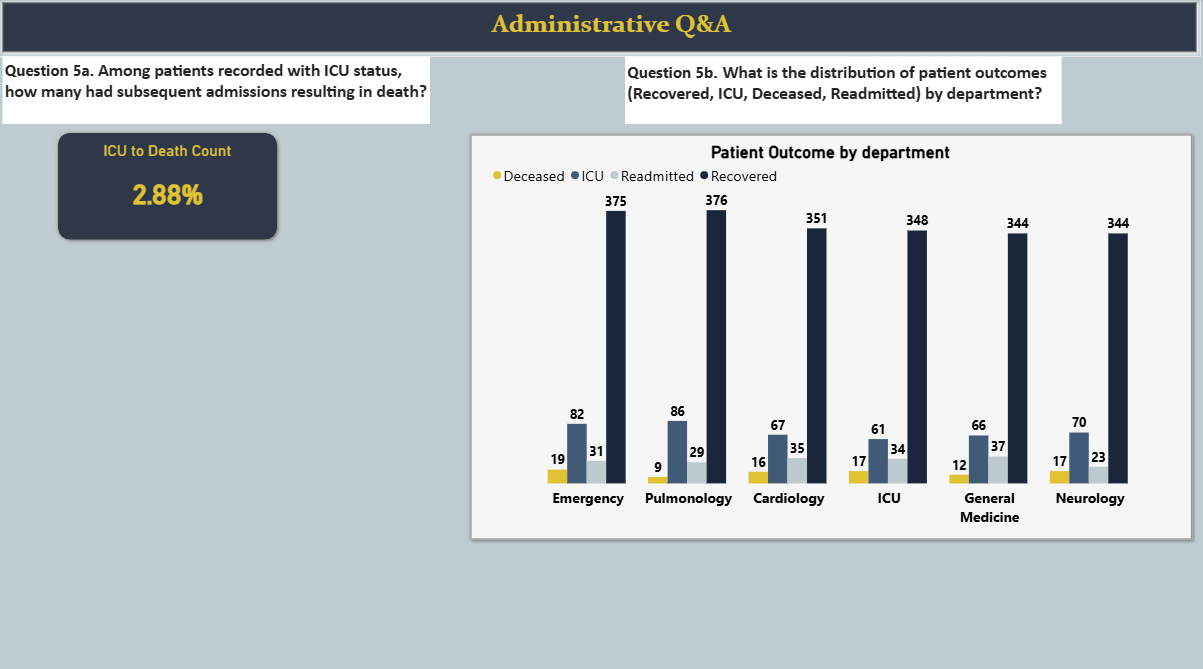

The dashboard page shown, as its layout file describes it:
{"tool":"powerbi","page":{"name":"Q&A 3","canvas":[2560,1440],"ordinal":4},"visuals":[{"type":"shape","box":[992.5,279.9,1549.3,878],"z":0},{"type":"shape","box":[0,0,2551.3,124.1],"z":1000},{"type":"textbox","box":[992.5,15.9,617.2,95.4],"z":2000},{"type":"shape","box":[117.7,276.8,483.5,245],"z":3000},{"type":"textbox","box":[1329.8,124.1,925.7,143.2],"z":4000},{"type":"card","title":"ICU to Death Count","fields":{"Values":["Measures_.ICU to Death %"]},"box":[117.7,305.4,483.5,168.6],"z":5000},{"type":"textbox","box":[9.5,124.1,906.6,143.2],"z":6000},{"type":"clusteredColumnChart","title":"Patient Outcome by department","fields":{"Y":["Measures_.Total Admissions"],"Series":["admissions.outcome"],"Category":["admissions.department"]},"box":[1040.3,305.4,1450.6,820.8],"z":7000}]}

Visuals, with their boxes in screenshot pixels (x1, y1, x2, y2), scaled from the page's 2560x1440 canvas onto the 1203x669 screenshot:
shape: x1=466, y1=130, x2=1194, y2=538
shape: x1=0, y1=0, x2=1199, y2=58
textbox: x1=466, y1=7, x2=756, y2=52
shape: x1=55, y1=129, x2=283, y2=242
textbox: x1=625, y1=58, x2=1060, y2=124
"ICU to Death Count" card: x1=55, y1=142, x2=283, y2=220
textbox: x1=4, y1=58, x2=430, y2=124
"Patient Outcome by department" clusteredColumnChart: x1=489, y1=142, x2=1171, y2=523
